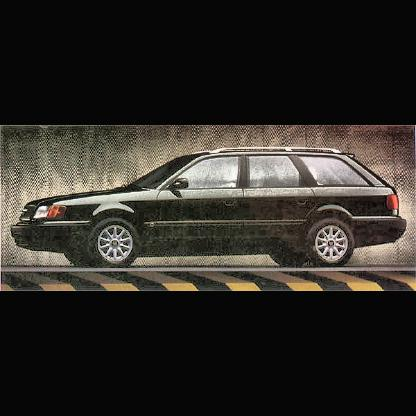Audi 100 Wagon 1994: (11, 144, 410, 269)
